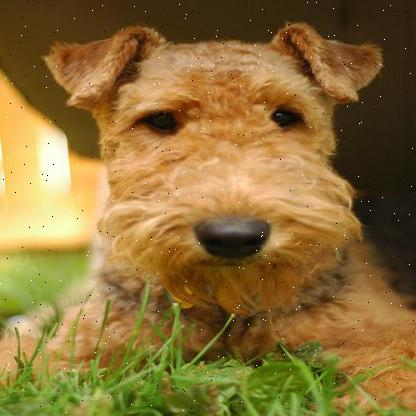dog: (37, 21, 412, 398)
